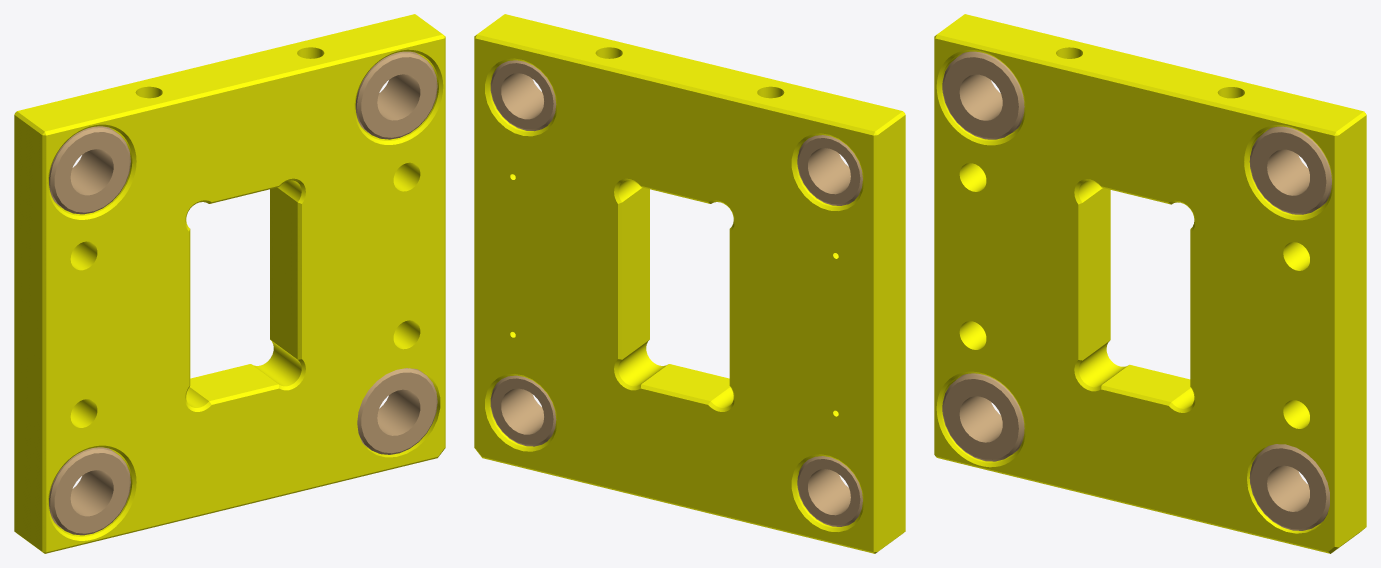
Rendered from a_plate.glb.
The picture shows the model from 3 angles, left to right: view 1: azimuth 30°, elevation 25°; view 2: azimuth 150°, elevation 25°; view 3: azimuth 330°, elevation 25°; orthographic projection.
Visible parts, largest first — view 1: Button_a_plate_027, Button_fm_gba_029 (×4); view 2: Button_a_plate_027, Button_fm_gba_029 (×4); view 3: Button_a_plate_027, Button_fm_gba_029 (×4).
Boxes of the visible parts, x1,y1,x2,y2 form: Button_a_plate_027: [14, 14, 445, 553]; Button_fm_gba_029 (×4): [49, 51, 437, 535]; Button_a_plate_027: [474, 14, 905, 553]; Button_fm_gba_029 (×4): [490, 60, 862, 526]; Button_a_plate_027: [934, 14, 1366, 553]; Button_fm_gba_029 (×4): [942, 51, 1331, 530].
Size of the model in its own units: 0.15 by 0.15 by 0.02.
